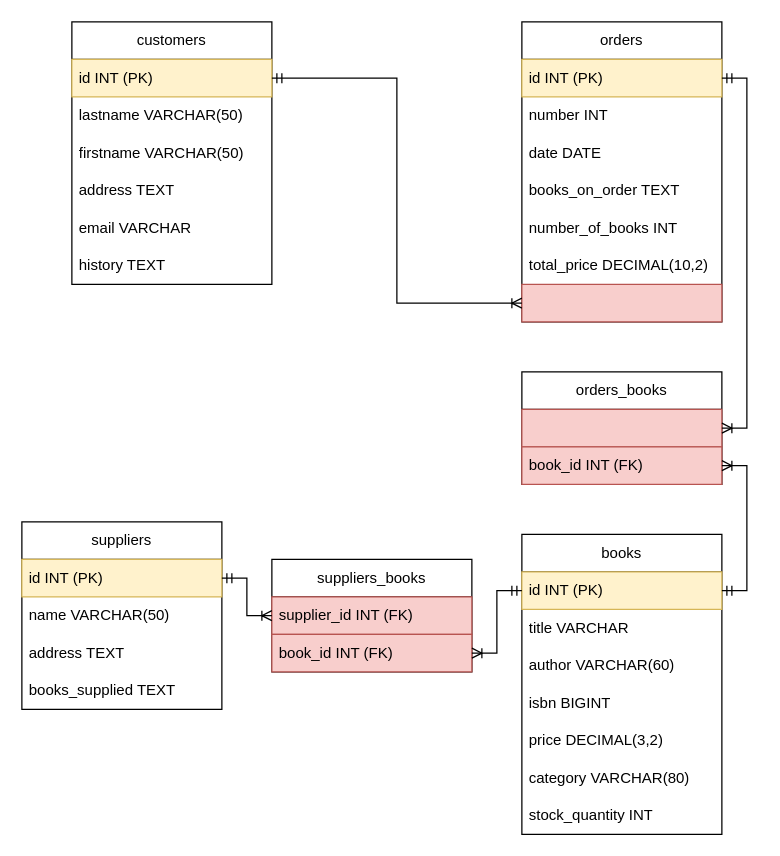
This 780x856 diagram has some shape labels left out. Each missing label, with the centre of its shape:
"customer_id INT (FK)" belongs at (621,302).
"order_id INT (FK)" belongs at (621,427).
